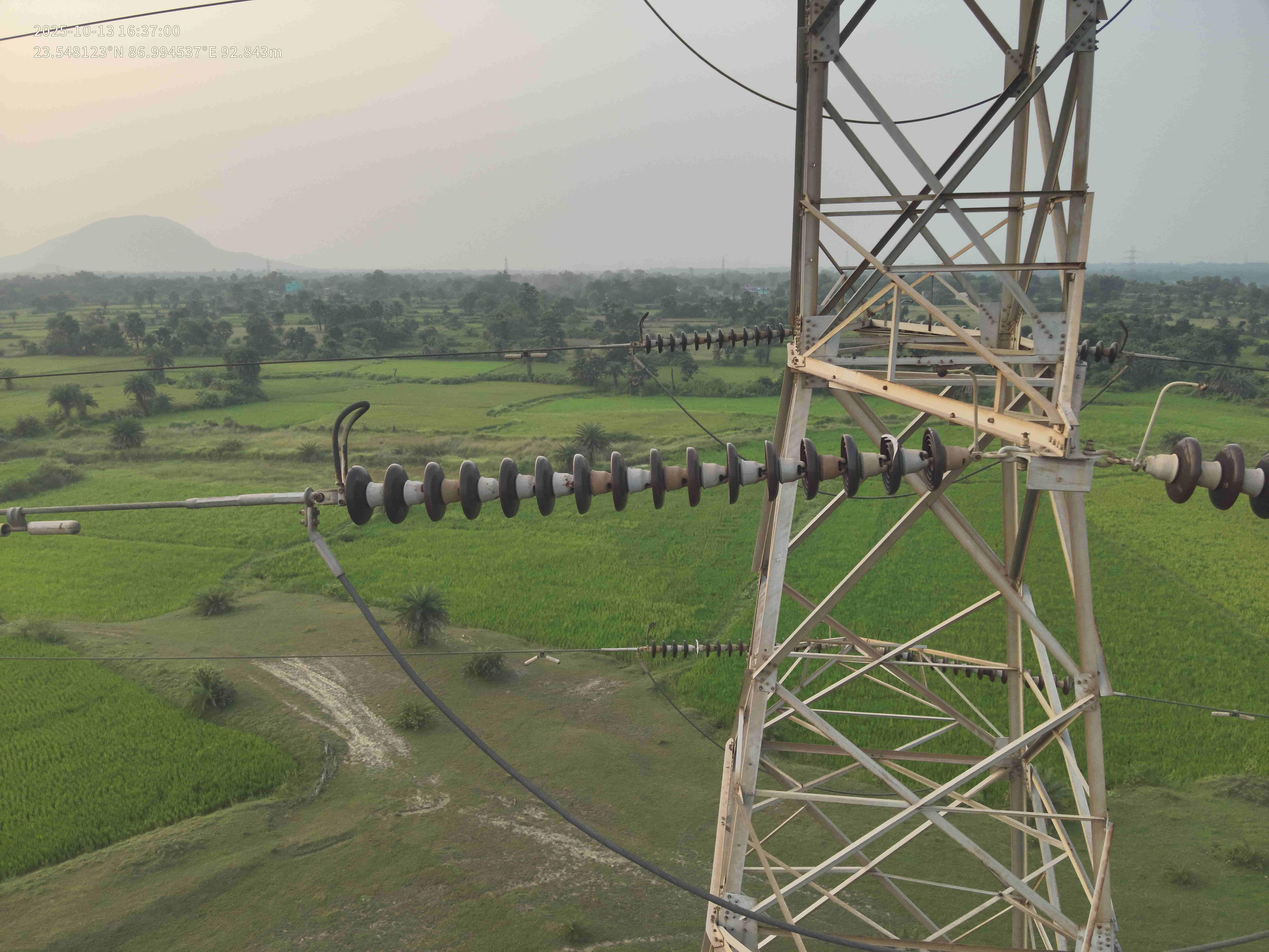broken_insulator: (872, 427, 911, 496), (694, 639, 700, 660)
